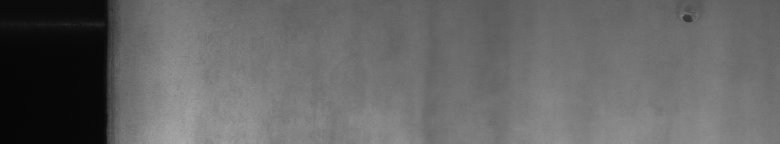fi: (677, 7, 696, 28)
